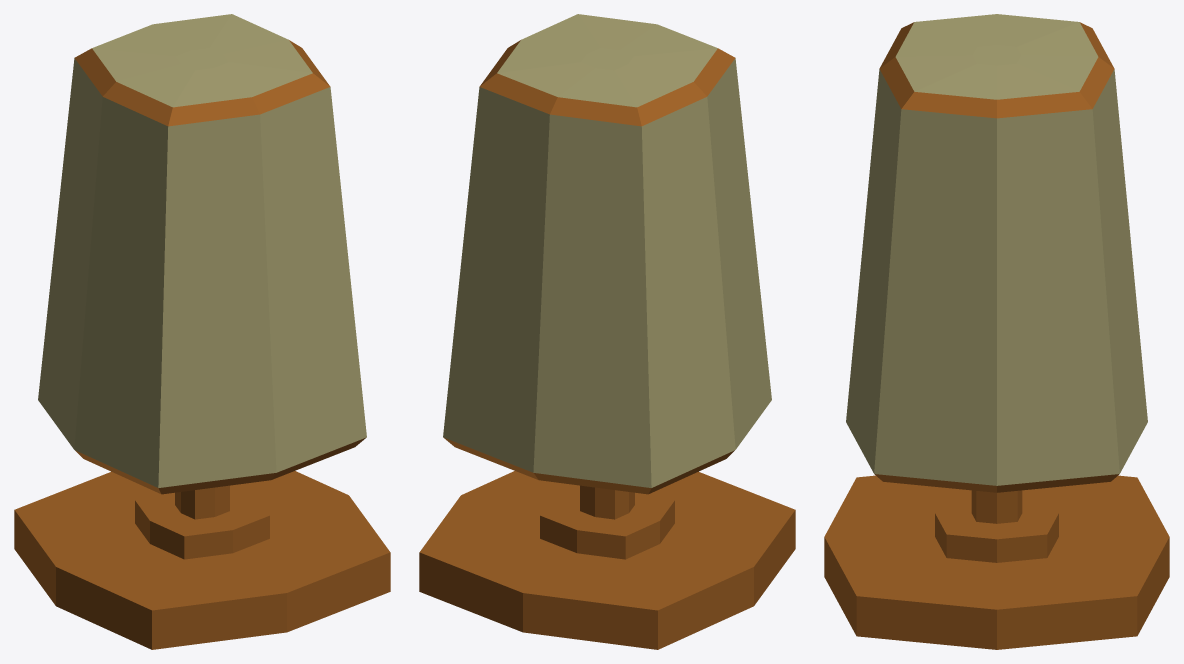
The model's file is Vintage_Nightstand_Lamp_3.fbx.
3 renders of one model, left to right at view 1: azimuth 30°, elevation 25°; view 2: azimuth 150°, elevation 25°; view 3: azimuth 270°, elevation 25°, orthographic. The views are drawn at different scales.
Visible parts, largest first — view 1: Vintage_Nightstand_Lamp_3; view 2: Vintage_Nightstand_Lamp_3; view 3: Vintage_Nightstand_Lamp_3.
Boxes of the visible parts, x1=… form: Vintage_Nightstand_Lamp_3: x1=14, y1=14, x2=390, y2=649; Vintage_Nightstand_Lamp_3: x1=419, y1=14, x2=795, y2=649; Vintage_Nightstand_Lamp_3: x1=824, y1=14, x2=1169, y2=649.
Bounding box in the file's own units: 863 × 1440 × 863.
